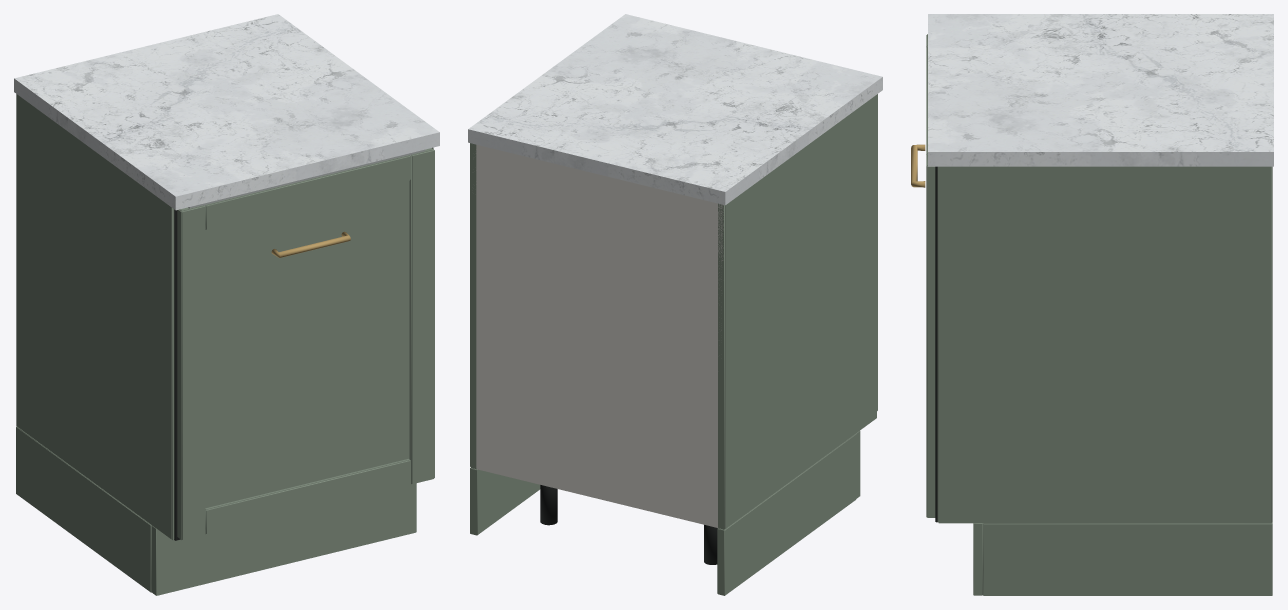
The model's file is country.dishwasher.gltf.
The picture shows the model from 3 angles, left to right: view 1: azimuth 30°, elevation 25°; view 2: azimuth 150°, elevation 25°; view 3: azimuth 270°, elevation 25°; orthographic projection. The views are drawn at different scales.
Parts seen in each view (by area): view 1: country.dishwasher.back; view 2: country.dishwasher.back; view 3: country.dishwasher.back.
Boxes of the visible parts, x1,y1,x2,y2 form: country.dishwasher.back: (14,14,439,595); country.dishwasher.back: (468,14,882,595); country.dishwasher.back: (911,14,1273,595).
Bounding box in the file's own units: 0.604 × 0.91 × 0.671.
Materials: 6 (1 with a texture image).
